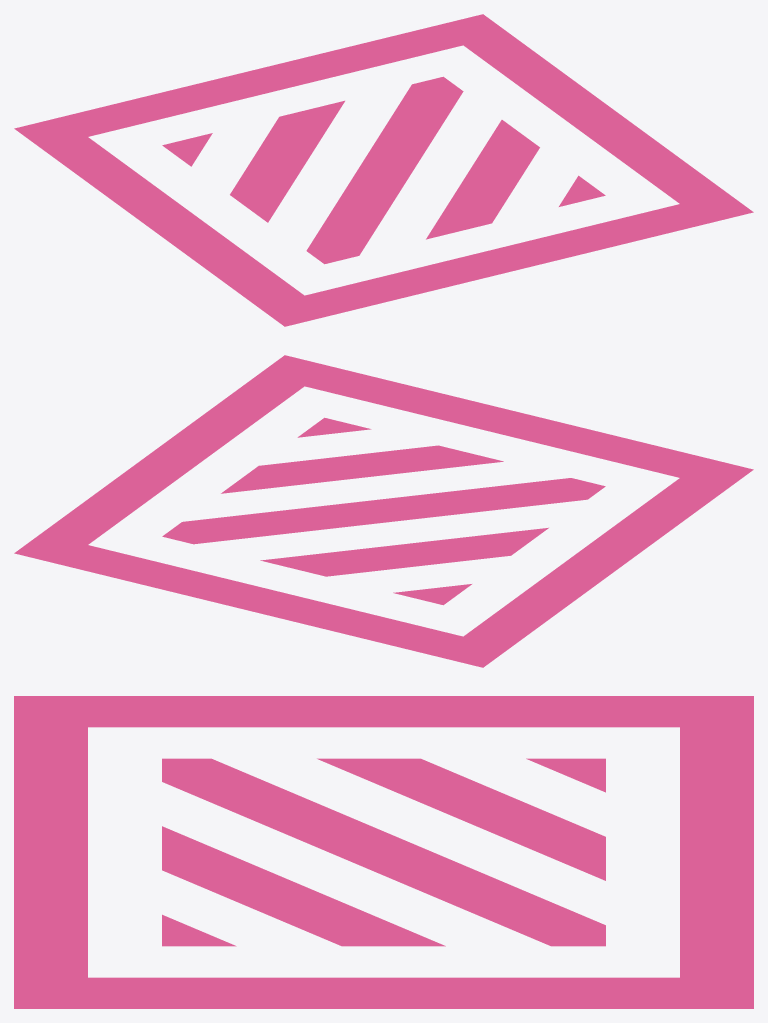
Rendered from Button_PinkBoxDiagonal.glb.
3 views of the same model, one above another, from view 1: azimuth 30°, elevation 25°; view 2: azimuth 150°, elevation 25°; view 3: azimuth 270°, elevation 25° (orthographic). The views are drawn at different scales.
Visible parts, largest first — view 1: indicator-special-area.001; view 2: indicator-special-area.001; view 3: indicator-special-area.001.
Part boxes in pixels (x1=…): indicator-special-area.001: x1=14, y1=14, x2=753, y2=326; indicator-special-area.001: x1=14, y1=355, x2=753, y2=667; indicator-special-area.001: x1=14, y1=696, x2=753, y2=1008.
Size of the model in its own units: 1 by 0 by 1.
